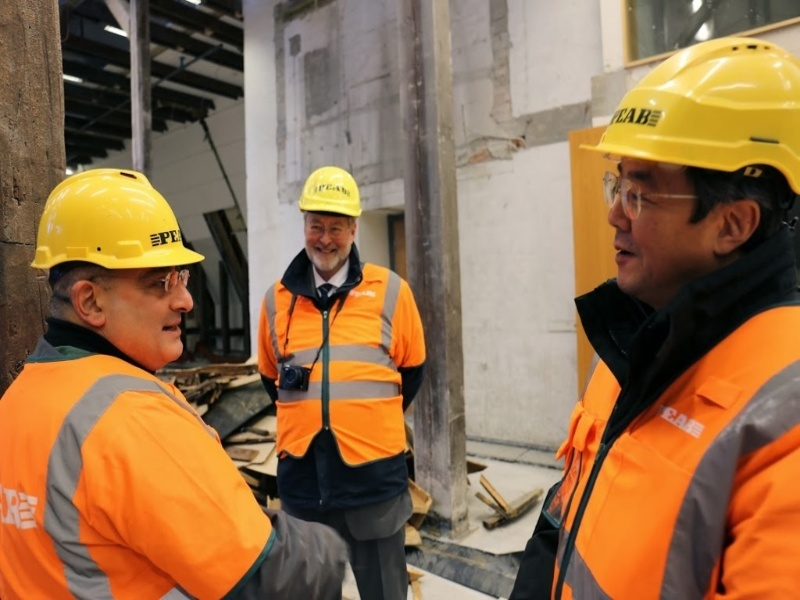baret: (578, 36, 799, 203), (29, 168, 208, 285), (299, 165, 363, 222)
